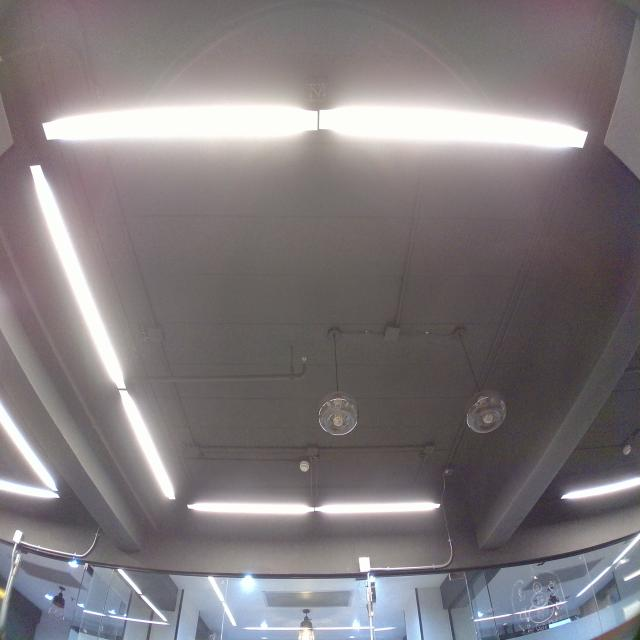lamp2_on: (22, 159, 184, 506), (31, 85, 600, 162), (184, 491, 449, 523)
